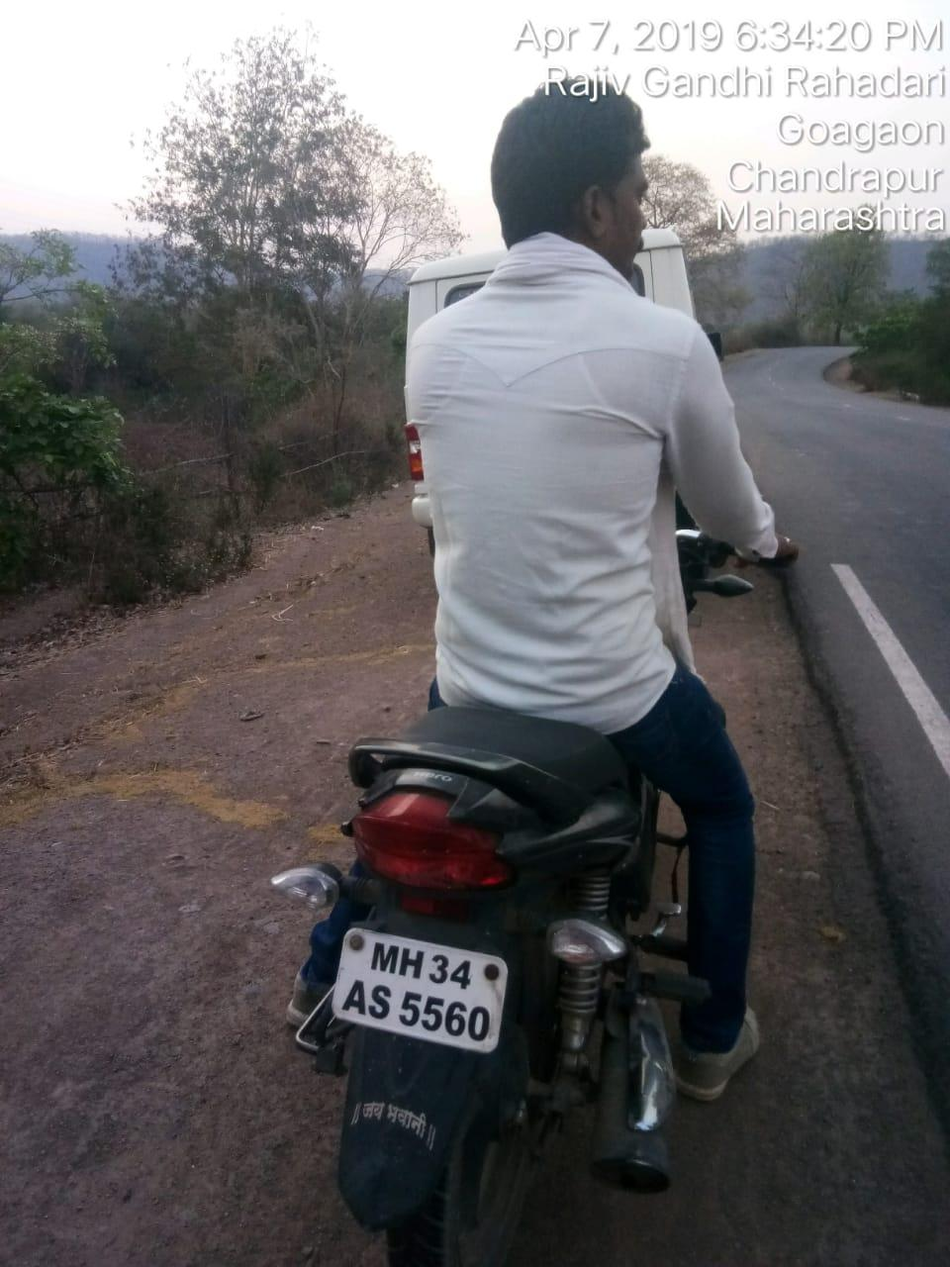plate: (316, 914, 521, 1065)
